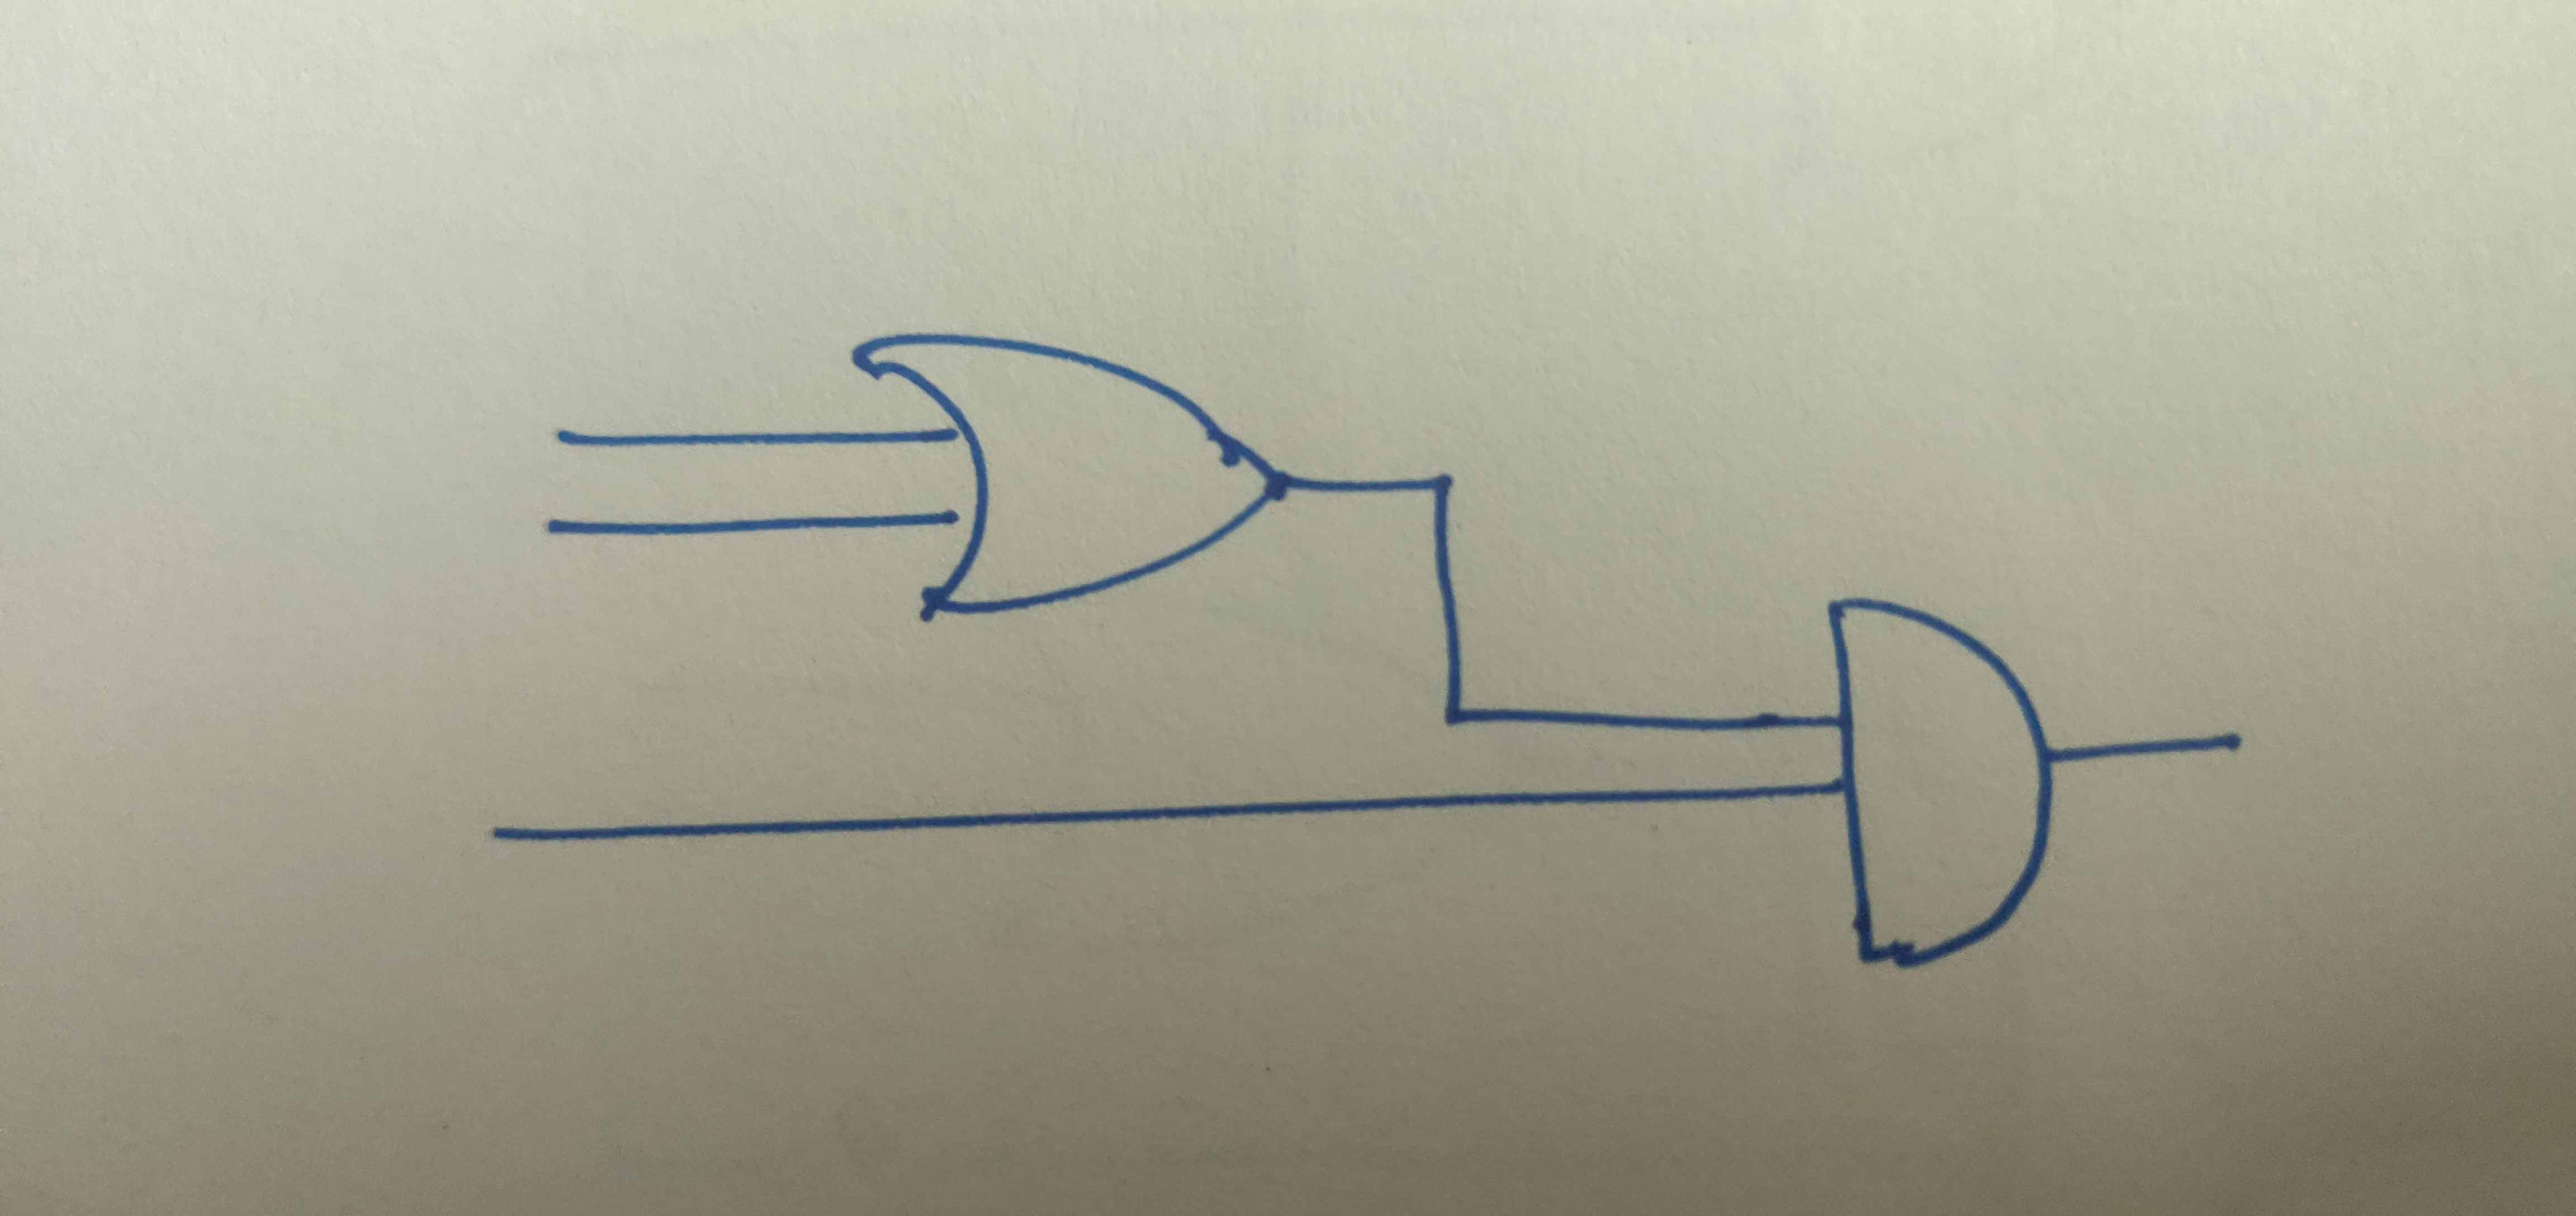and: (1817, 588, 2060, 973)
or: (851, 325, 1295, 634)
